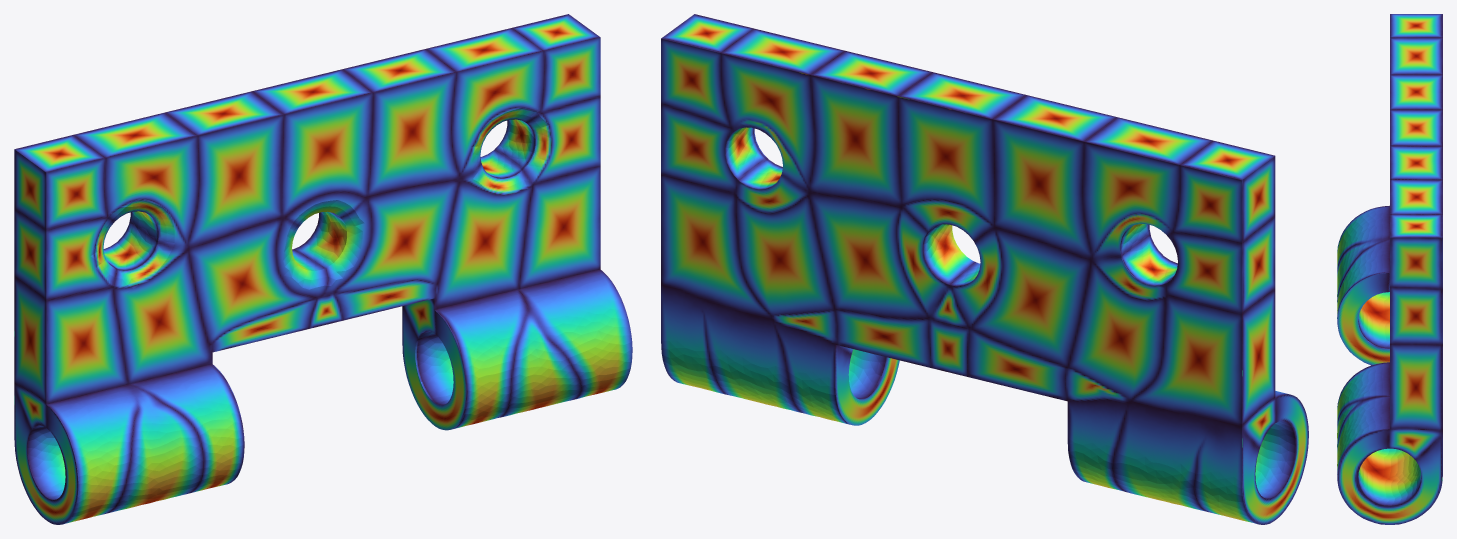
Rendered from gen0.glb.
The picture shows the model from 3 angles, left to right: view 1: azimuth 30°, elevation 25°; view 2: azimuth 150°, elevation 25°; view 3: azimuth 270°, elevation 25°; orthographic projection. The views are drawn at different scales.
Parts seen in each view (by area): view 1: Node; view 2: Node; view 3: Node.
Part boxes in pixels (<box>): Node: <box>14,14,632,524</box>; Node: <box>661,14,1308,524</box>; Node: <box>1337,14,1442,524</box>.
Bounding box in the file's own units: 50 × 30 × 10.
1 material, 1 textured.
